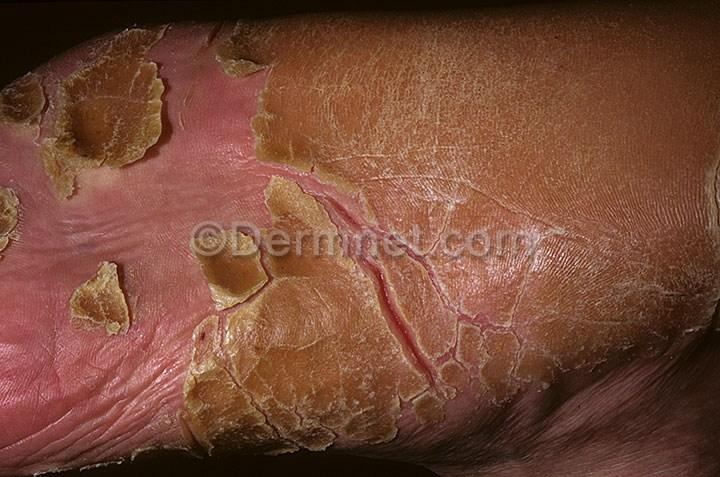Eczema: (278, 164, 460, 428), (65, 42, 176, 174), (153, 225, 236, 319)
